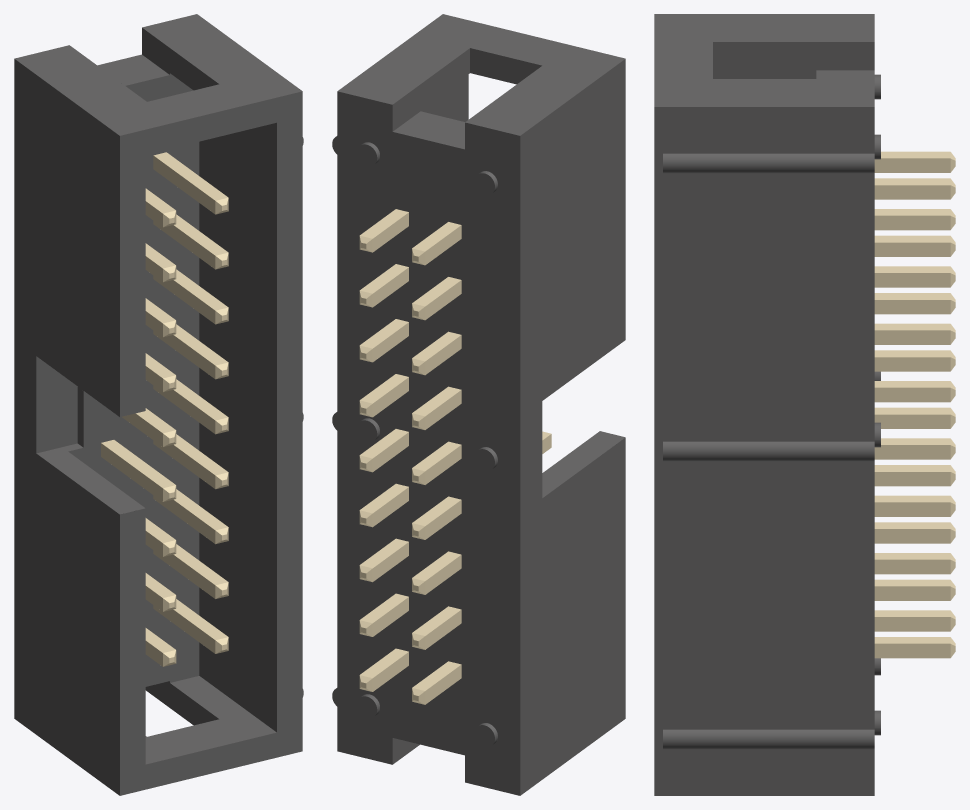
Rendered from IDC-Header_2x09_P2.54mm_Vertical.glb.
3 views of the same model, side by side, from view 1: azimuth 30°, elevation 25°; view 2: azimuth 150°, elevation 25°; view 3: azimuth 270°, elevation 25° (orthographic). The views are drawn at different scales.
Parts seen in each view (by area): view 1: Shape_IndexedFaceSet.008, Shape_IndexedFaceSet.023, Shape_IndexedFaceSet.039, Shape_IndexedFaceSet.025, Shape_IndexedFaceSet.009, Shape_IndexedFaceSet.026, Shape_IndexedFaceSet.028, Shape_IndexedFaceSet.027, Shape_IndexedFaceSet.012, Shape_IndexedFaceSet.005, Shape_IndexedFaceSet.011, Shape_IndexedFaceSet.155 (+19 smaller); view 2: Shape_IndexedFaceSet.001, Shape_IndexedFaceSet.008, Shape_IndexedFaceSet.009, Shape_IndexedFaceSet.012, Shape_IndexedFaceSet.027, Shape_IndexedFaceSet.011, Shape_IndexedFaceSet.030, Shape_IndexedFaceSet.039, Shape_IndexedFaceSet.211, Shape_IndexedFaceSet.215, Shape_IndexedFaceSet.169, Shape_IndexedFaceSet.225 (+15 smaller); view 3: Shape_IndexedFaceSet.002, Shape_IndexedFaceSet.009, Shape_IndexedFaceSet.010, Shape_IndexedFaceSet, Shape_IndexedFaceSet.013, Shape_IndexedFaceSet.014, Shape_IndexedFaceSet.046, Shape_IndexedFaceSet.186, Shape_IndexedFaceSet.228, Shape_IndexedFaceSet.270, Shape_IndexedFaceSet.060, Shape_IndexedFaceSet.074 (+30 smaller).
Boxes of the visible parts, box(x1,y1,x2,y2) form: Shape_IndexedFaceSet.008: box(14, 59, 119, 795); Shape_IndexedFaceSet.023: box(120, 91, 302, 795); Shape_IndexedFaceSet.039: box(199, 122, 276, 732); Shape_IndexedFaceSet.025: box(68, 73, 199, 686); Shape_IndexedFaceSet.009: box(14, 14, 302, 135); Shape_IndexedFaceSet.026: box(145, 676, 276, 764); Shape_IndexedFaceSet.028: box(36, 356, 77, 453); Shape_IndexedFaceSet.027: box(36, 443, 144, 514); Shape_IndexedFaceSet.012: box(142, 28, 218, 90); Shape_IndexedFaceSet.005: box(145, 681, 218, 725); Shape_IndexedFaceSet.011: box(97, 54, 169, 85); Shape_IndexedFaceSet.155: box(153, 155, 215, 213); Shape_IndexedFaceSet.001: box(332, 91, 520, 795); Shape_IndexedFaceSet.008: box(520, 59, 625, 795); Shape_IndexedFaceSet.009: box(338, 14, 625, 135); Shape_IndexedFaceSet.012: box(392, 48, 469, 131); Shape_IndexedFaceSet.027: box(542, 431, 625, 497); Shape_IndexedFaceSet.011: box(393, 111, 464, 149); Shape_IndexedFaceSet.030: box(470, 48, 541, 84); Shape_IndexedFaceSet.039: box(420, 74, 468, 121); Shape_IndexedFaceSet.211: box(425, 434, 551, 539); Shape_IndexedFaceSet.215: box(412, 431, 551, 525); Shape_IndexedFaceSet.169: box(425, 664, 461, 704); Shape_IndexedFaceSet.225: box(425, 445, 461, 484); Shape_IndexedFaceSet.002: box(654, 107, 874, 795); Shape_IndexedFaceSet.009: box(654, 14, 874, 106); Shape_IndexedFaceSet.010: box(713, 42, 874, 70); Shape_IndexedFaceSet: box(663, 729, 874, 749); Shape_IndexedFaceSet.013: box(663, 153, 874, 173); Shape_IndexedFaceSet.014: box(663, 441, 874, 461); Shape_IndexedFaceSet.046: box(874, 643, 950, 658); Shape_IndexedFaceSet.186: box(874, 559, 950, 574); Shape_IndexedFaceSet.228: box(874, 387, 950, 402); Shape_IndexedFaceSet.270: box(874, 215, 950, 230); Shape_IndexedFaceSet.060: box(874, 586, 950, 600); Shape_IndexedFaceSet.074: box(874, 529, 950, 543).
Bounding box in the file's own units: 3.58 × 12.02 × 4.76.
